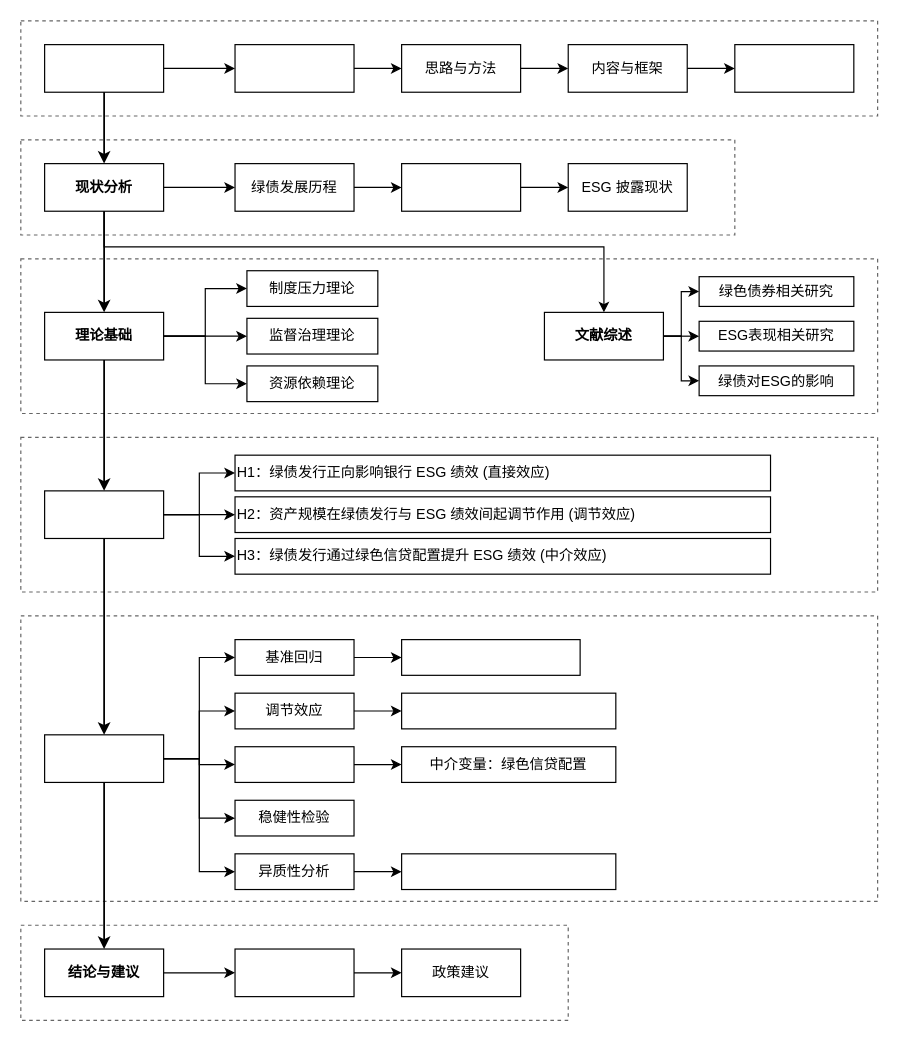
The diagram is 898 pixels wide and 1041 high, and some of its shapes have lost their labels. The centre of each missing label's shape, as x and y in pixels:
"个体固定效应模型" goes at pixel 490 656.
"中介效应" goes at pixel 294 764.
"分维度 / 银行类型异质性" goes at pixel 508 871.
"实证分析" goes at pixel 103 758.
"意义与创新" goes at pixel 794 67.
"研究假设" goes at pixel 103 514.
"研究结论" goes at pixel 294 972.
"研究背景" goes at pixel 294 67.
"绪论" goes at pixel 103 67.
"绿债发行现状" goes at pixel 460 186.
"调节变量：银行资产规模" goes at pixel 508 710.
